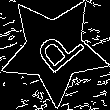P_SW: (24, 20, 84, 81)
